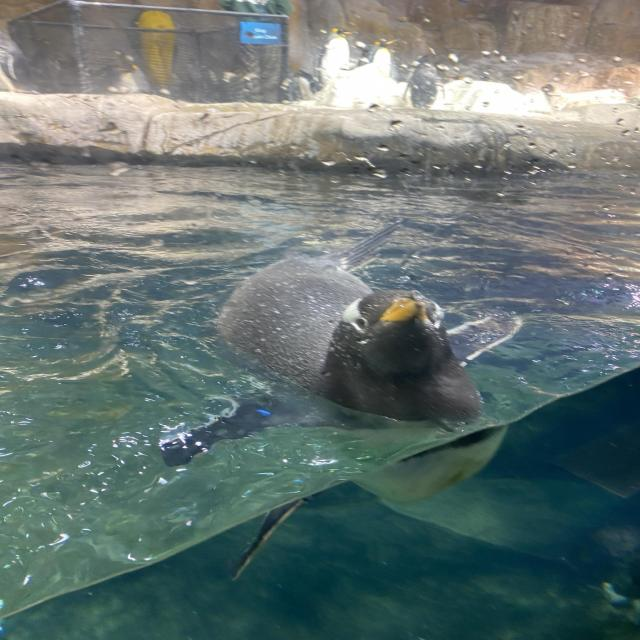penguin: (158, 216, 524, 585), (314, 26, 358, 88), (0, 29, 38, 93), (404, 53, 445, 109), (366, 39, 398, 81), (115, 60, 149, 95)
